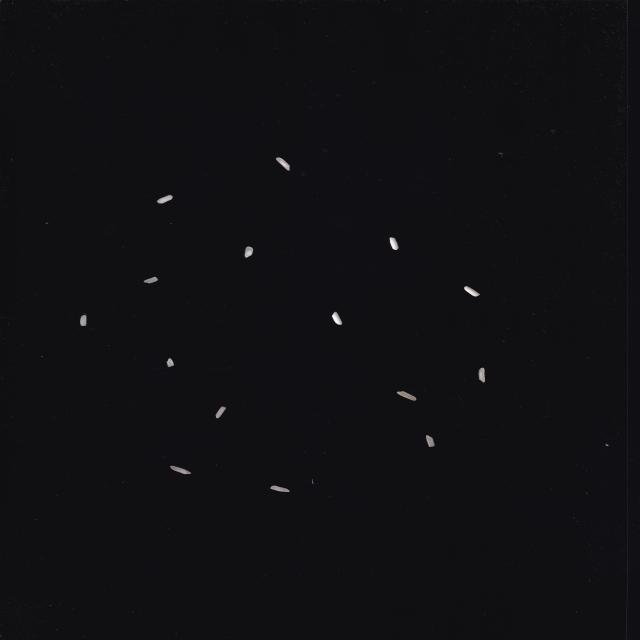Chalky: (275, 157, 291, 171), (157, 195, 173, 204), (244, 246, 254, 258)
Not: (396, 391, 417, 401), (464, 286, 481, 297), (170, 466, 192, 474), (332, 312, 343, 325), (215, 406, 226, 419), (389, 237, 399, 250), (143, 276, 158, 284), (270, 486, 290, 492), (478, 368, 486, 382), (426, 435, 435, 447), (79, 315, 87, 326), (166, 358, 175, 367)
